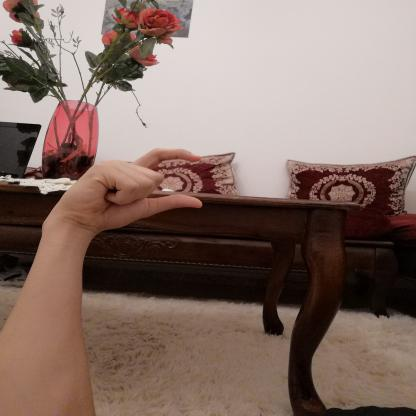DELL: (47, 138, 217, 242)
